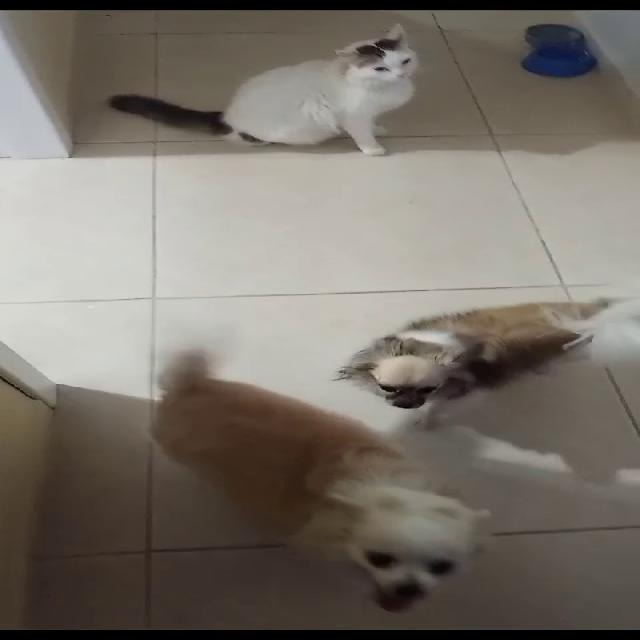Pedrita: (348, 274, 638, 397)
Simba: (142, 23, 482, 178)
Theo: (126, 346, 526, 619)
